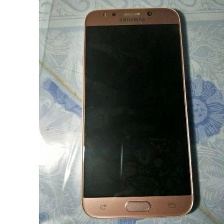phone: (76, 5, 197, 221)
